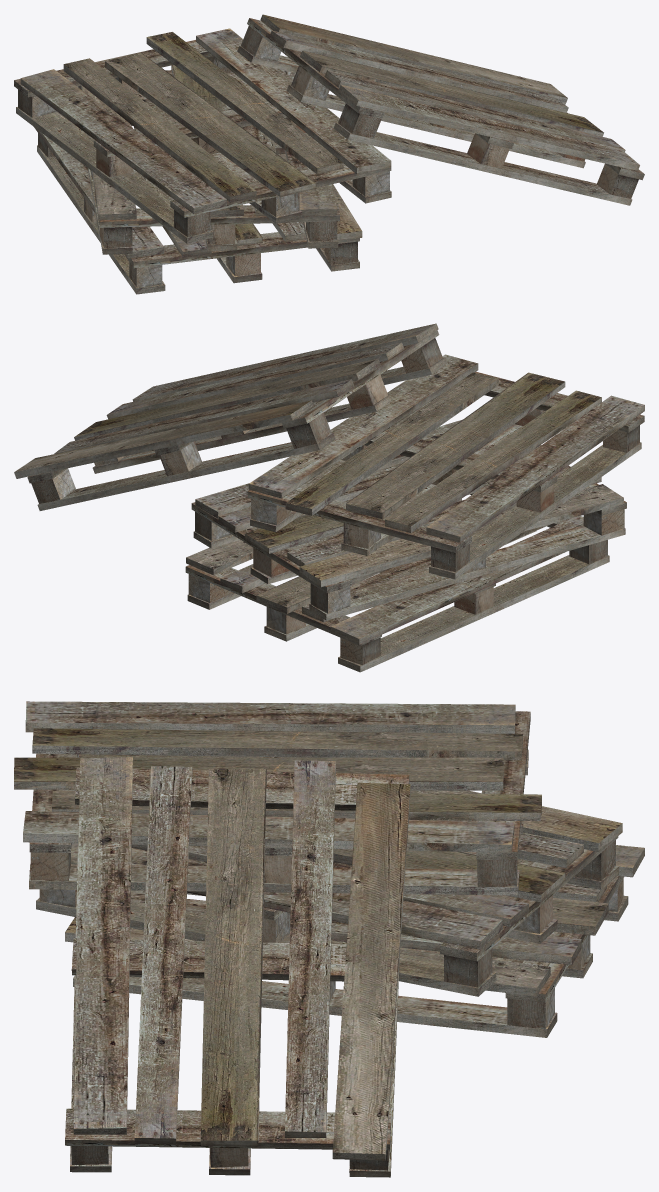
File: pallet_group_01.FBX
The picture shows the model from 3 angles, top to bottom: view 1: azimuth 30°, elevation 25°; view 2: azimuth 150°, elevation 25°; view 3: azimuth 270°, elevation 25°; orthographic projection. The views are drawn at different scales.
Visible parts, largest first — view 1: pallet_s; view 2: pallet_s; view 3: pallet_s.
Boxes of the visible parts, x1=… form: pallet_s: x1=14, y1=14, x2=644, y2=294; pallet_s: x1=14, y1=323, x2=644, y2=672; pallet_s: x1=14, y1=701, x2=644, y2=1177.
Bounding box in the file's own units: 2.06 × 0.6384 × 1.55.
